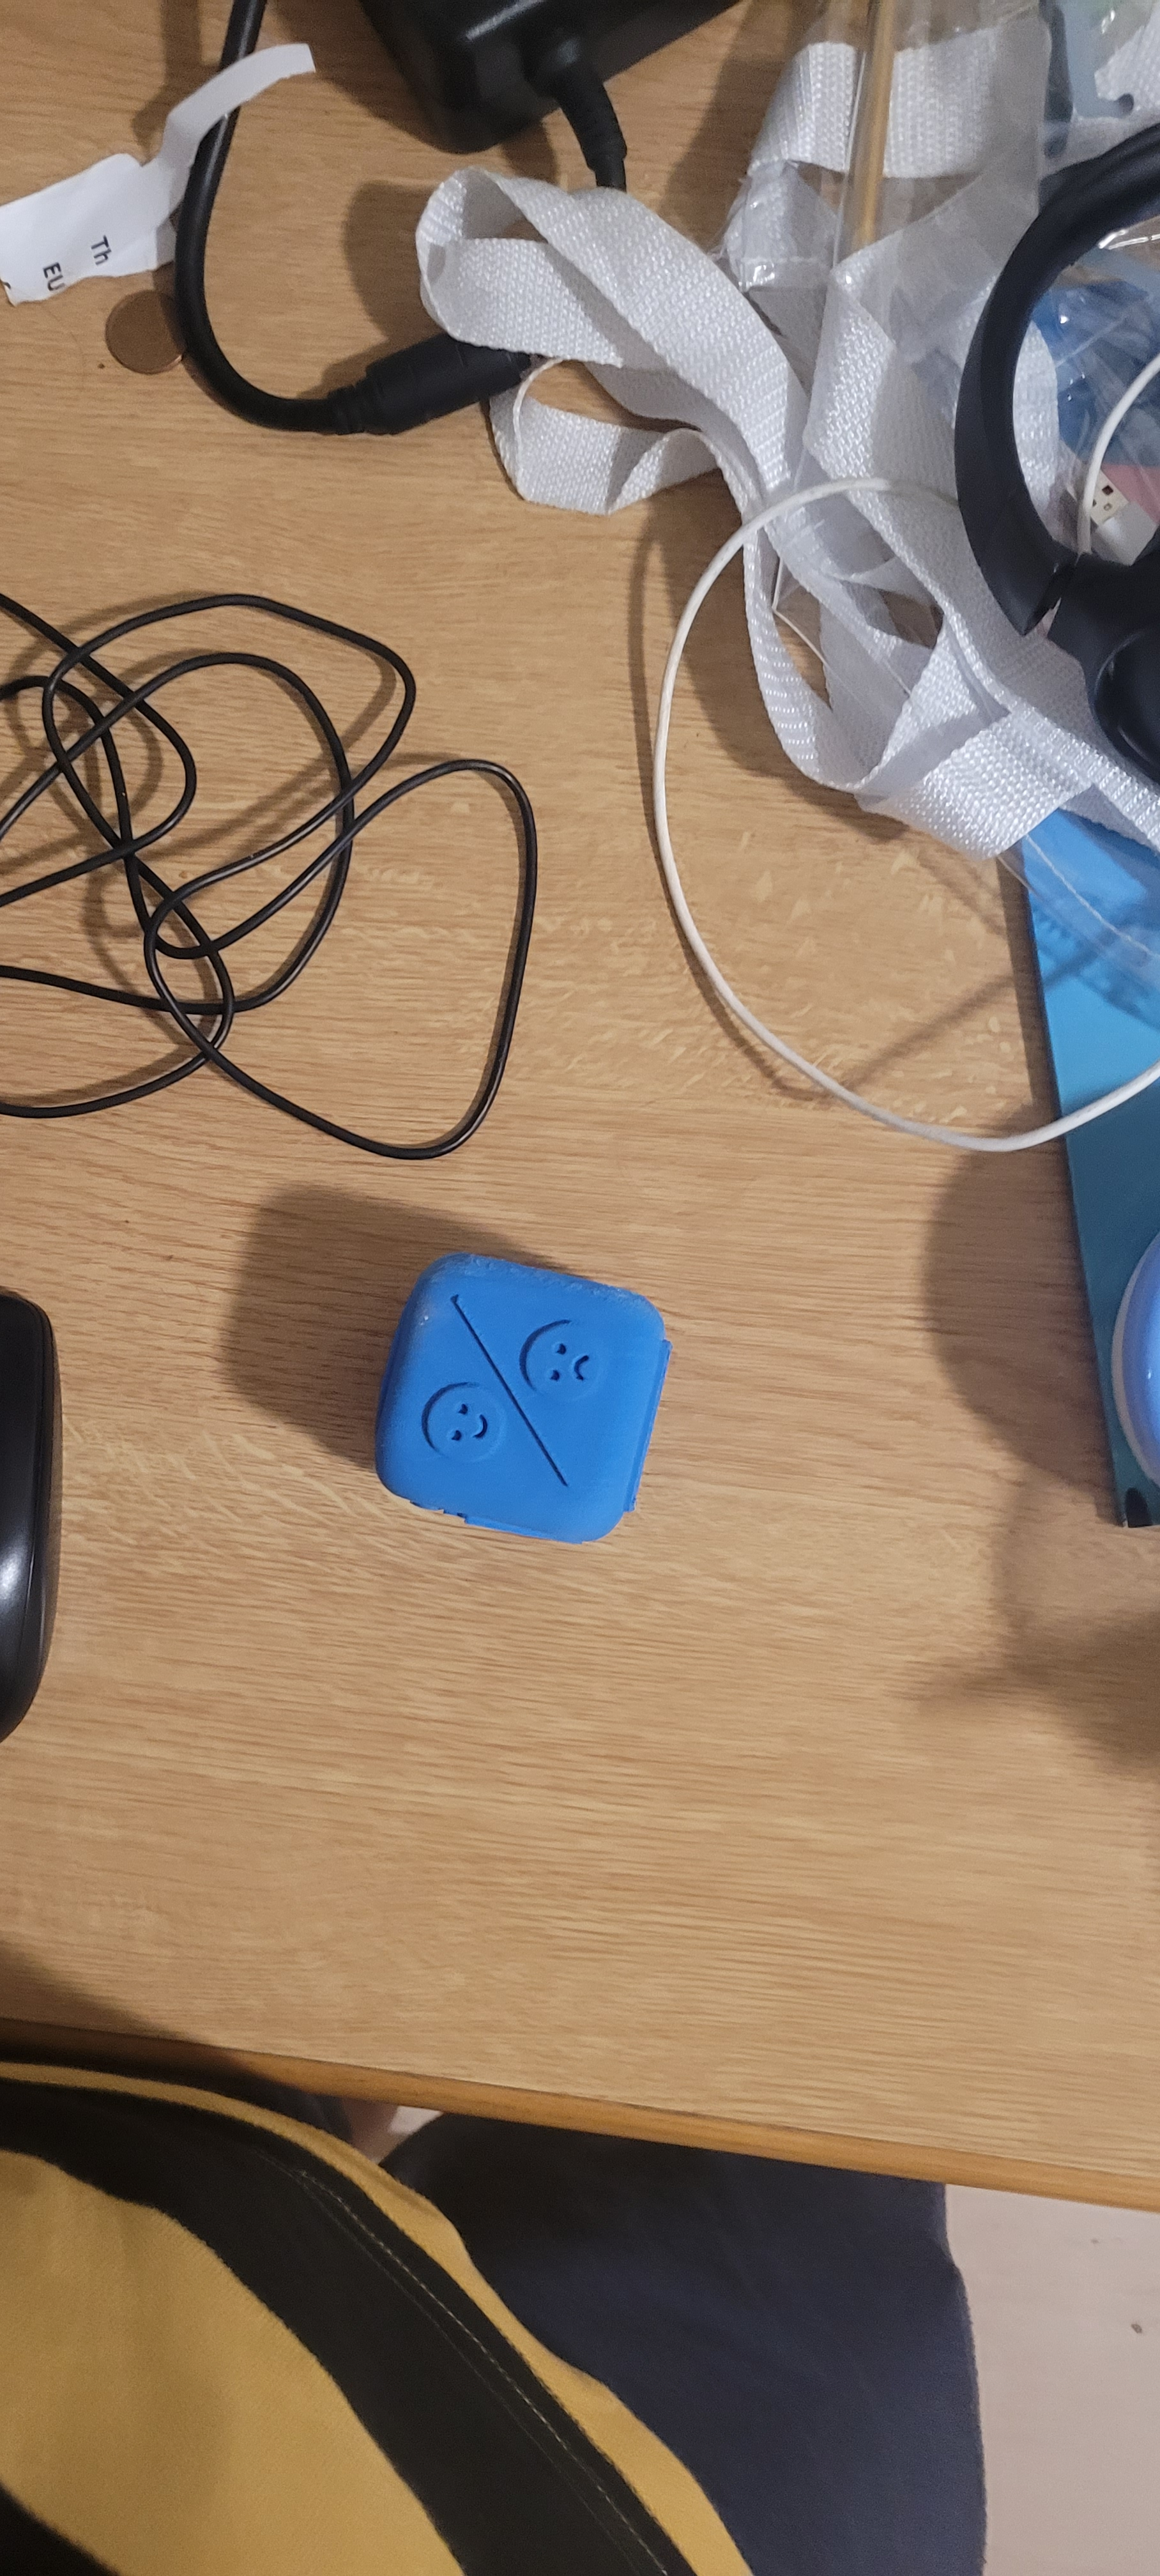Like/Dislike: (381, 1242, 669, 1516)
